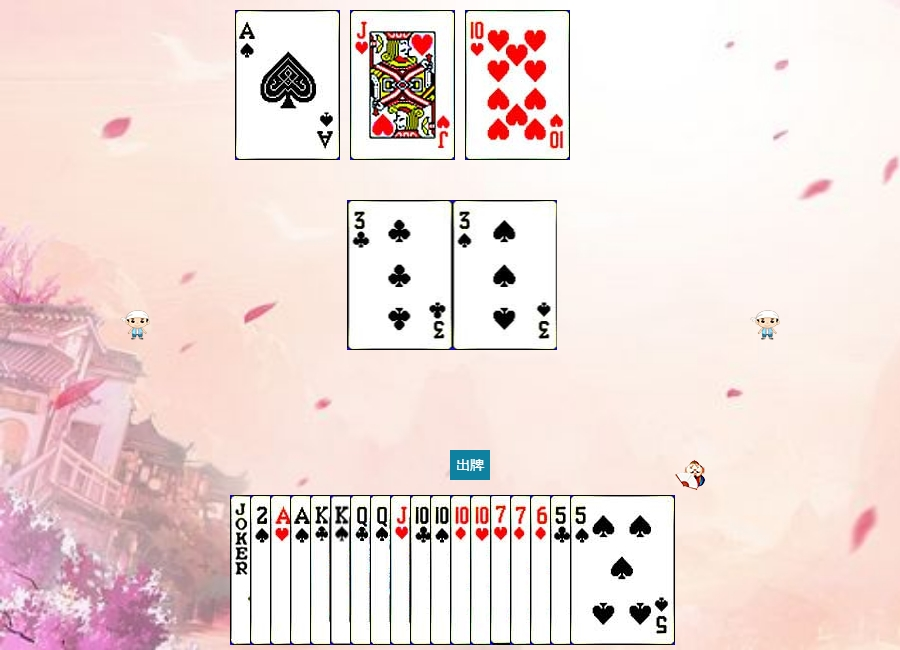10~1: (450, 495, 555, 645)
10~2: (410, 495, 515, 645)
10~3: (465, 10, 570, 160), (470, 495, 575, 645)
10~4: (430, 495, 535, 645)
11~3: (350, 10, 455, 160), (390, 495, 495, 645)
12~2: (350, 495, 455, 645)
12~4: (370, 495, 475, 645)
13~2: (310, 495, 415, 645)
13~4: (330, 495, 435, 645)
14~3: (270, 495, 375, 645)
14~4: (235, 10, 340, 160), (290, 495, 395, 645)
15~4: (250, 495, 355, 645)
17~3: (230, 495, 335, 645)
3~2: (348, 200, 453, 350)
3~4: (453, 200, 558, 350)
5~2: (550, 495, 655, 645)
5~4: (570, 495, 675, 645)
6~1: (530, 495, 635, 645)
7~1: (510, 495, 615, 645)
7~3: (490, 495, 595, 645)
